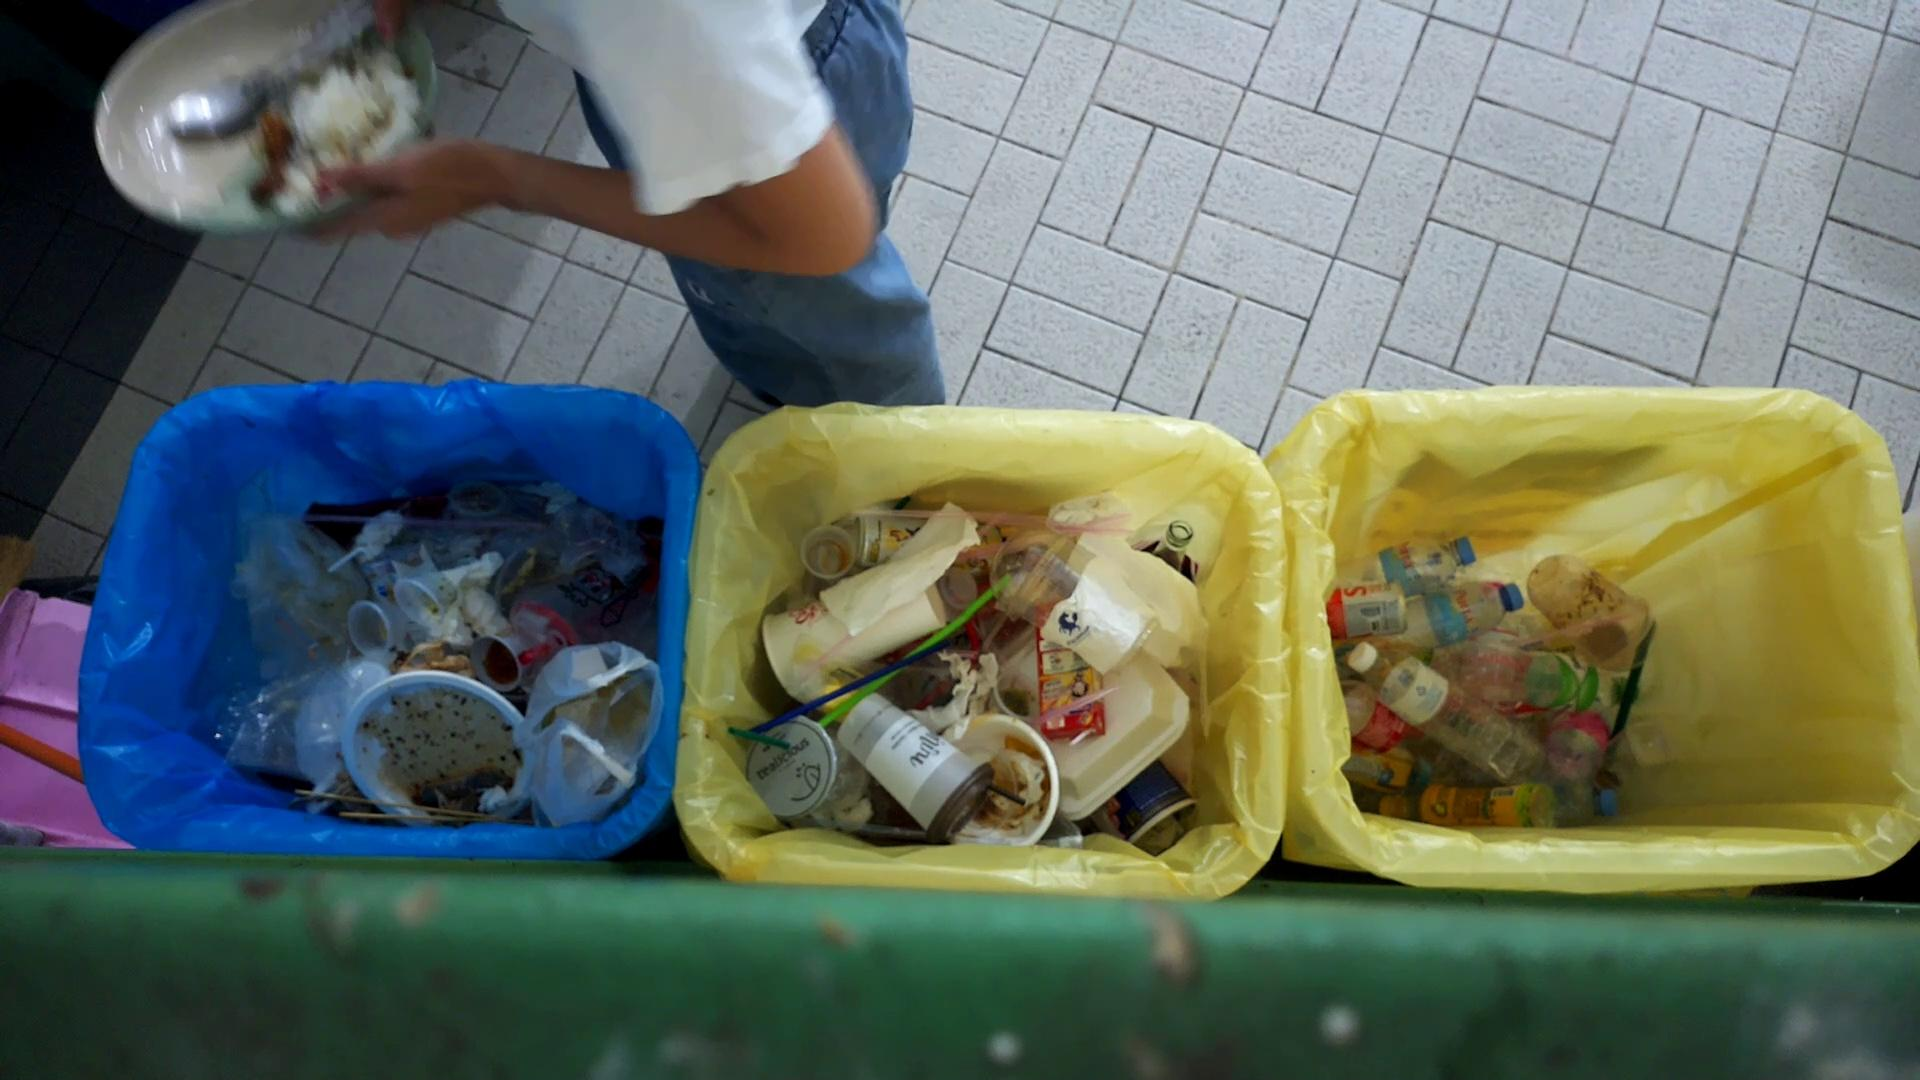dirty food container: (336, 671, 535, 824)
food container: (927, 715, 1064, 852), (393, 566, 462, 628), (347, 599, 411, 658), (472, 630, 531, 691), (803, 522, 856, 580)
milk carton: (1029, 618, 1110, 738)
plastic bottle: (1349, 641, 1551, 782), (1367, 582, 1527, 644), (1374, 782, 1555, 828), (1335, 534, 1480, 591)
plastic cup: (985, 524, 1160, 674), (839, 694, 998, 847), (1527, 551, 1658, 666), (749, 715, 839, 822)
sticks: (293, 785, 510, 824)
straw: (811, 566, 998, 737), (865, 506, 1104, 609), (749, 654, 934, 750), (902, 696, 980, 835), (978, 531, 1124, 585), (935, 574, 1117, 615), (302, 513, 556, 537), (725, 725, 793, 754)
tissue paper: (1038, 551, 1158, 679), (415, 554, 508, 642), (901, 600, 978, 690), (476, 785, 513, 820)
